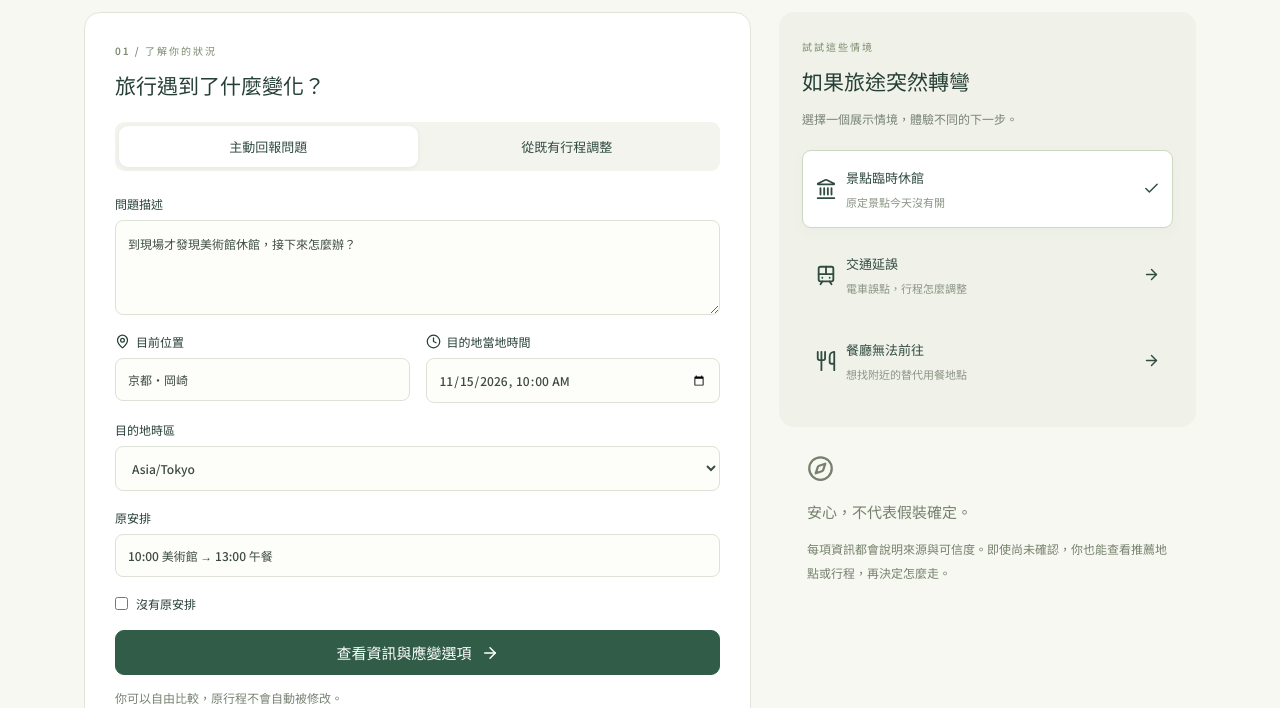
it: scenario 餐廳無法前往 supports results and observation
Later steps or results of the test are not shown.
(page scrolled)
What coordinates should you click on to do the following:
click the button "餐廳無法前往 想找附近的替代用餐地點"
I would click on:
 (885, 349)
Its box is [802, 322, 1173, 400].
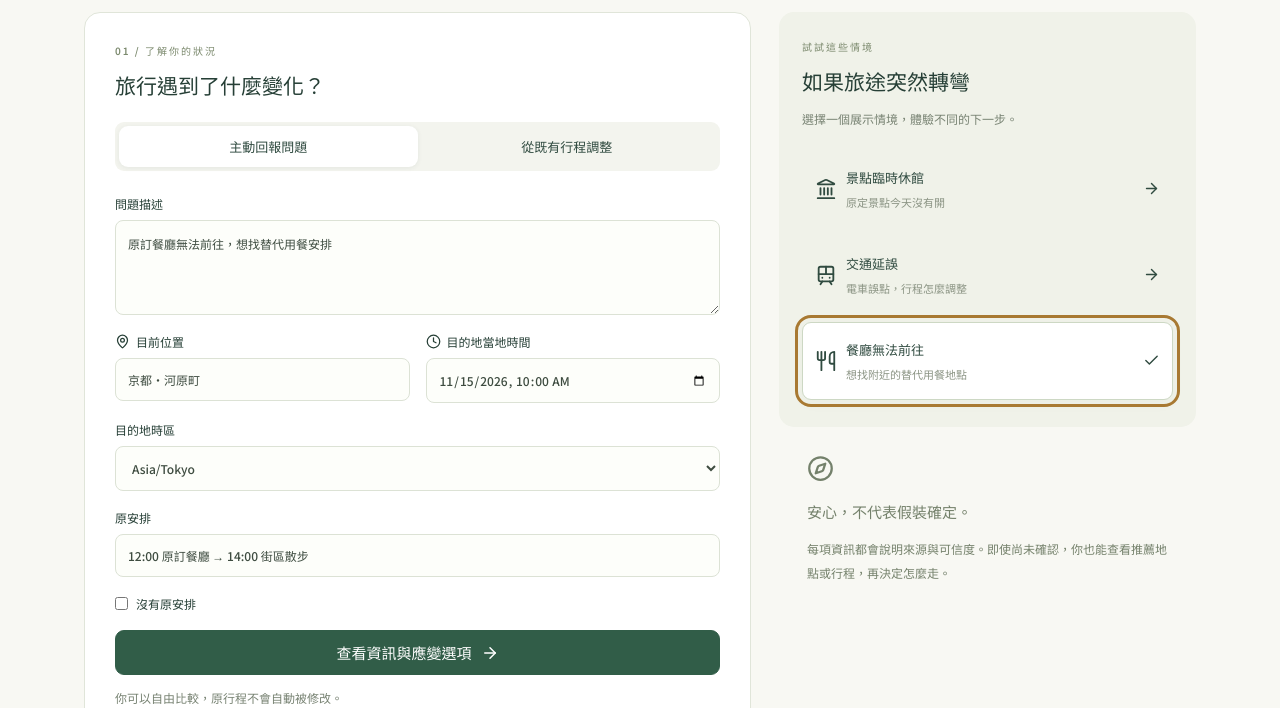
What coordinates should you click on to do the following:
click the button "查看資訊與應變選項"
I would click on:
 (418, 652)
Its box is [115, 630, 720, 675].
(page scrolled)
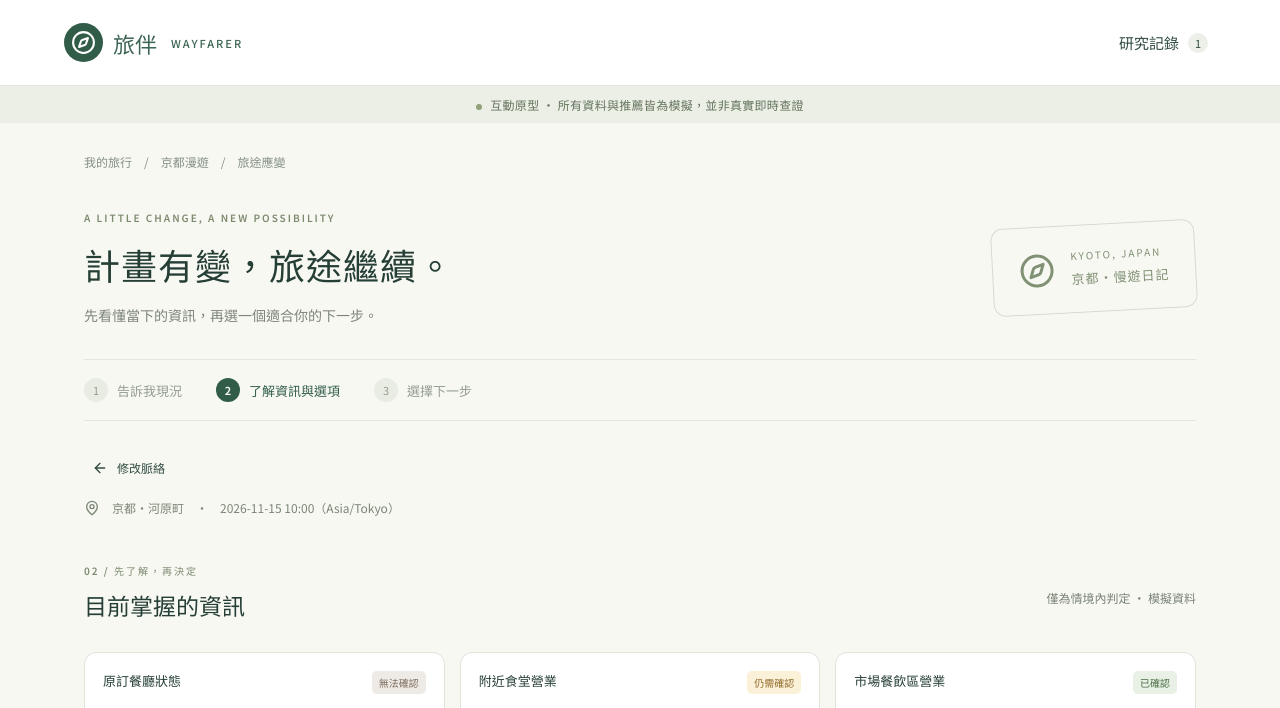
Expected: the heading "目前掌握的資訊" is shown, [84, 588, 245, 622]
